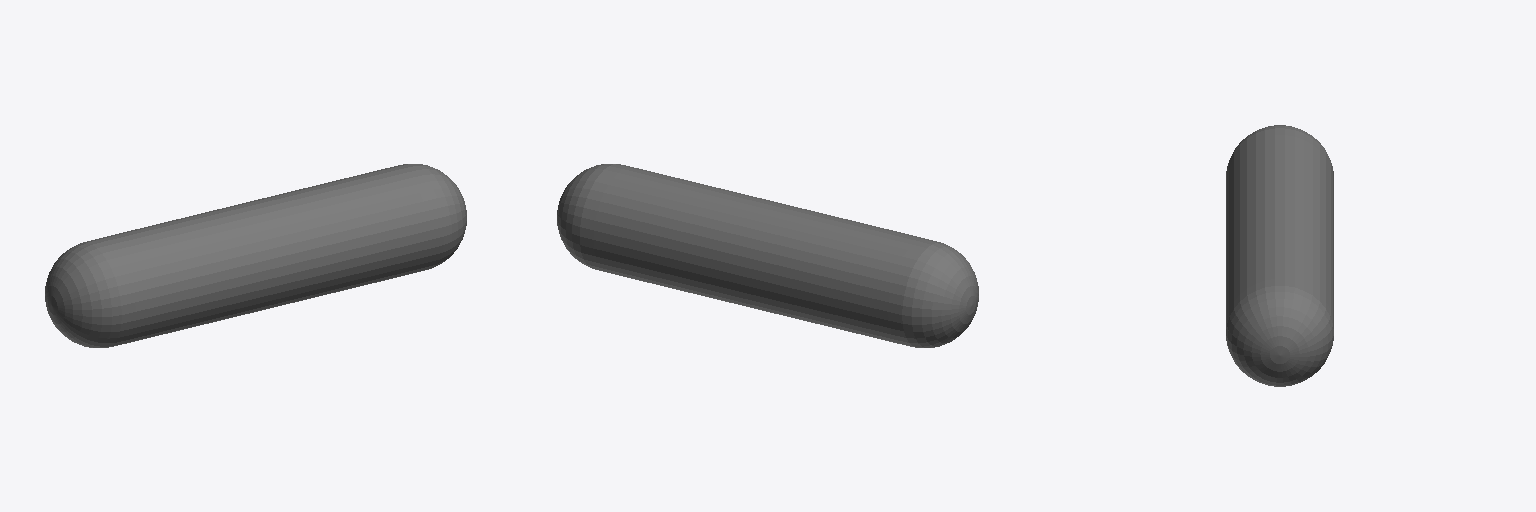
File: capsule_cap.obj
The picture shows the model from 3 angles: view 1: azimuth 30°, elevation 25°; view 2: azimuth 150°, elevation 25°; view 3: azimuth 270°, elevation 25°; orthographic projection.
Bounding box in the file's own units: 1.04 × 0.239 × 0.24.